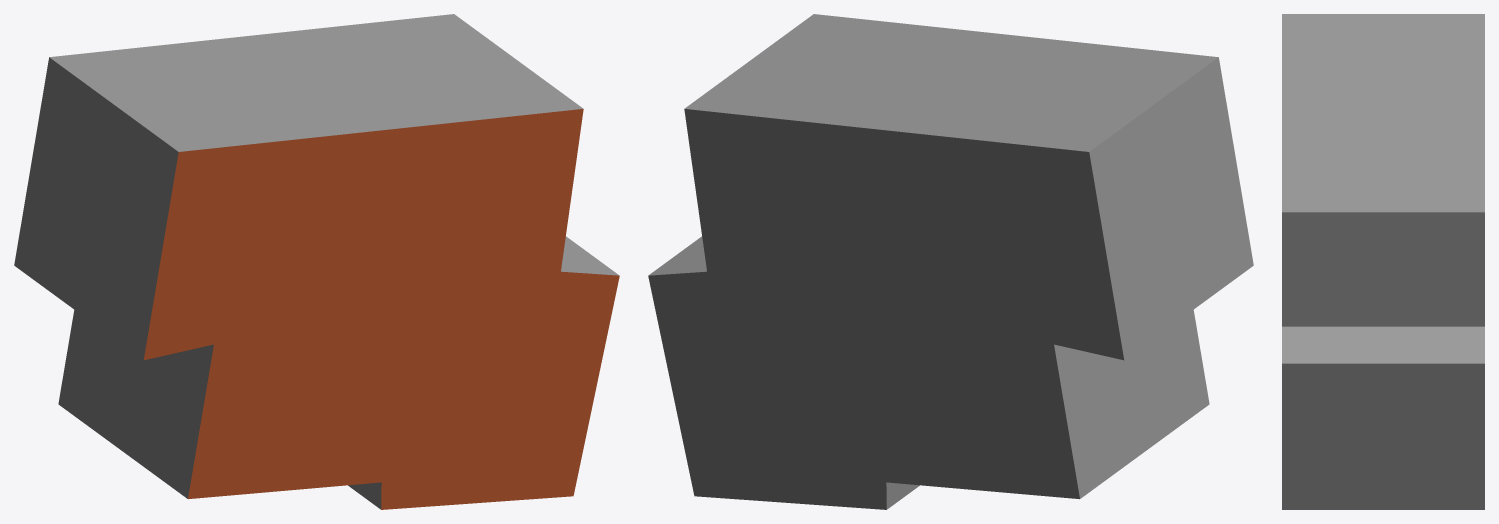
Rendered from construction_1605_assumed_A_Casa_h6m.obj.
The picture shows the model from 3 angles, left to right: view 1: azimuth 30°, elevation 25°; view 2: azimuth 150°, elevation 25°; view 3: azimuth 270°, elevation 25°; orthographic projection. The views are drawn at different scales.
Parts seen in each view (by area): view 1: construction_1605_assumed_A_Casa; view 2: construction_1605_assumed_A_Casa; view 3: construction_1605_assumed_A_Casa.
Boxes of the visible parts, x1,y1,x2,y2 form: construction_1605_assumed_A_Casa: (14,14,619,509); construction_1605_assumed_A_Casa: (648,14,1253,509); construction_1605_assumed_A_Casa: (1282,14,1484,509).
Bounding box in the file's own units: 12.73 × 11.26 × 6.
